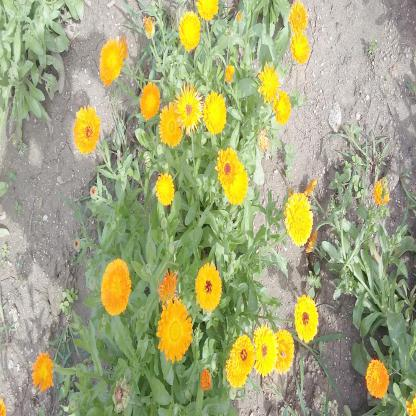marigold: (156, 296, 193, 363), (100, 256, 132, 315), (284, 190, 313, 248), (174, 80, 203, 135), (250, 323, 278, 378), (195, 262, 223, 312), (72, 105, 100, 153), (293, 292, 319, 343), (98, 37, 124, 86), (158, 99, 184, 147), (214, 146, 239, 192), (202, 90, 227, 134), (225, 345, 248, 391), (30, 350, 55, 392), (366, 357, 390, 400), (257, 60, 280, 104), (225, 159, 247, 204), (272, 329, 294, 373), (178, 10, 202, 50), (138, 80, 160, 121), (155, 265, 179, 302), (234, 334, 255, 373), (289, 27, 311, 64), (287, 0, 309, 35), (272, 90, 292, 126), (154, 172, 175, 206), (372, 177, 390, 208)
